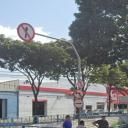NoSeguir: (16, 23, 35, 41), (77, 79, 85, 88)
